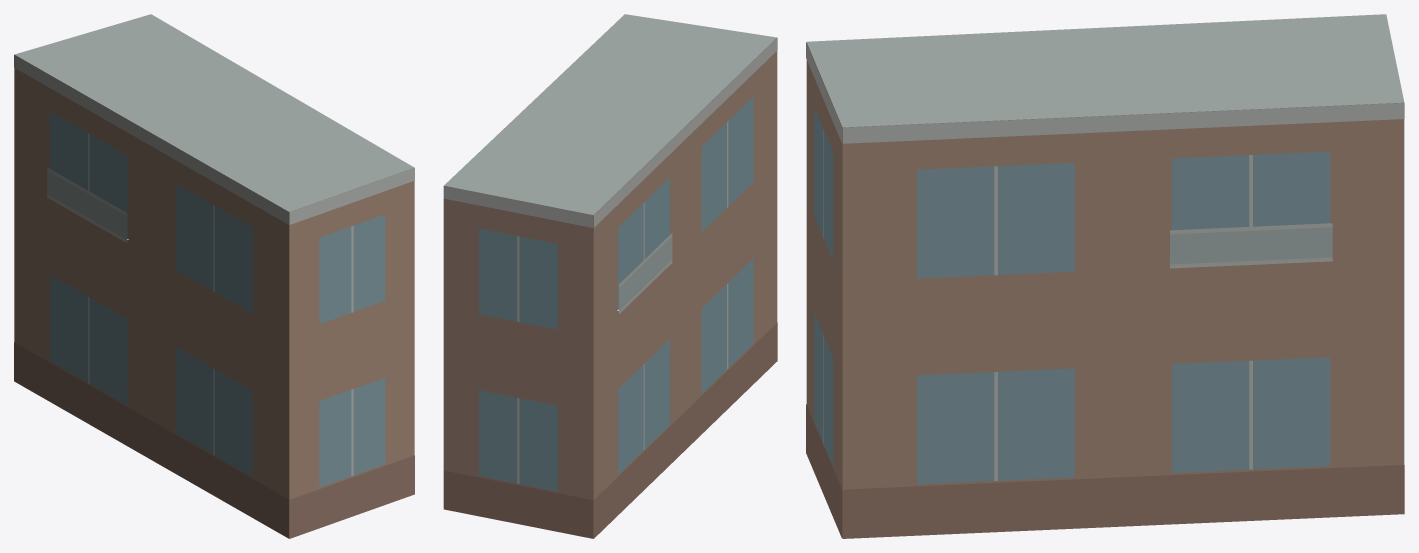
Rendered from survey-upis-32666983.glb.
3 renders of one model, left to right at view 1: azimuth 30°, elevation 25°; view 2: azimuth 150°, elevation 25°; view 3: azimuth 270°, elevation 25°, orthographic. The views are drawn at different scales.
Parts seen in each view (by area): view 1: survey-upis-32666983.tmp; view 2: survey-upis-32666983.tmp; view 3: survey-upis-32666983.tmp.
Boxes of the visible parts, bbox=[...] form: survey-upis-32666983.tmp: bbox=[14, 14, 414, 538]; survey-upis-32666983.tmp: bbox=[443, 14, 777, 538]; survey-upis-32666983.tmp: bbox=[806, 14, 1404, 538].
Bounding box in the file's own units: 3.61 × 6.1 × 8.05.
